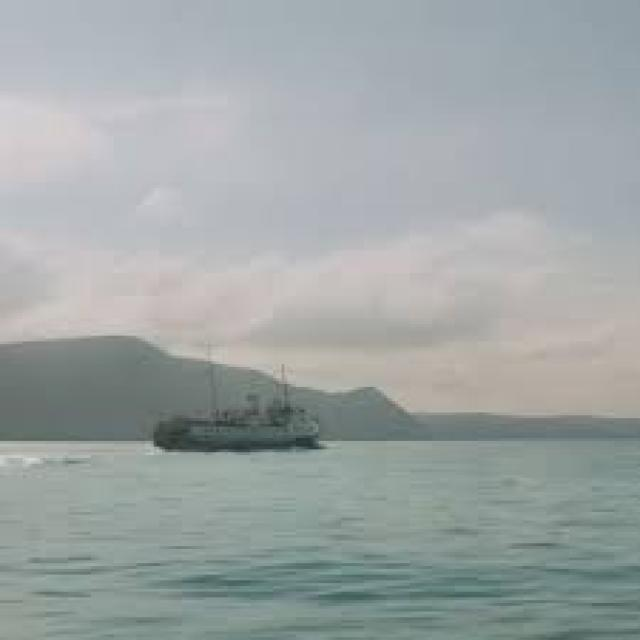fishing boat: (147, 376, 320, 450)
